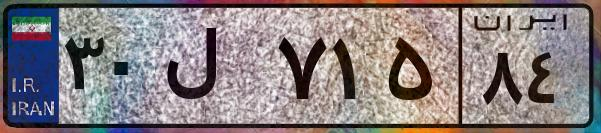0: (110, 28, 158, 98)
1: (330, 28, 385, 110)
3: (57, 26, 110, 100)
4: (525, 38, 570, 115)
5: (385, 28, 445, 110)
7: (270, 28, 330, 110)
8: (475, 38, 525, 113)
ل: (158, 20, 270, 120)
